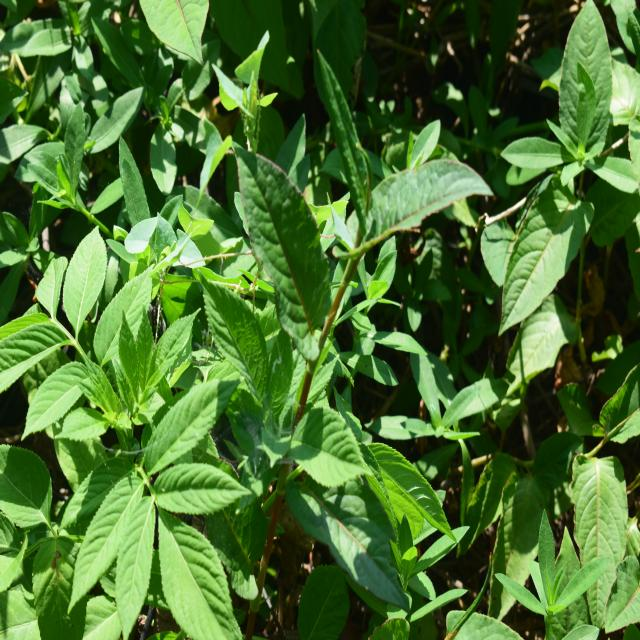Chinese_knotweed: (218, 94, 476, 320)
